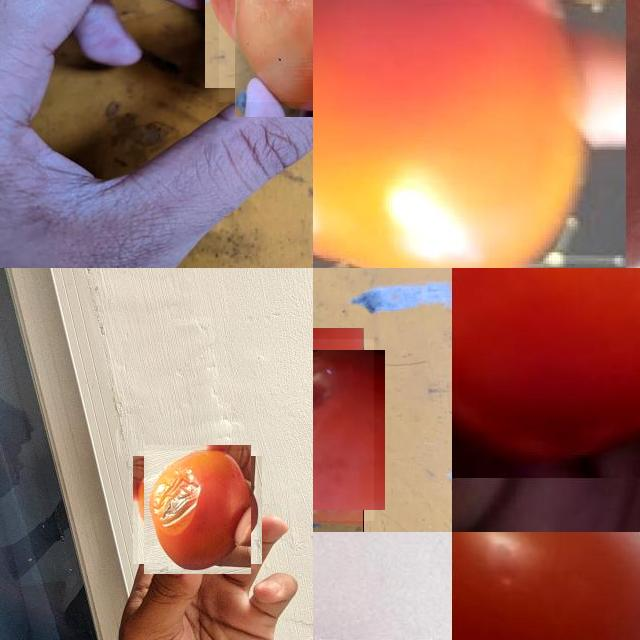Fresh Tomato: (313, 0, 626, 268), (452, 268, 640, 477), (452, 532, 640, 640)
Rotten Tomato: (138, 451, 257, 569), (313, 339, 374, 521), (219, 0, 313, 102)
